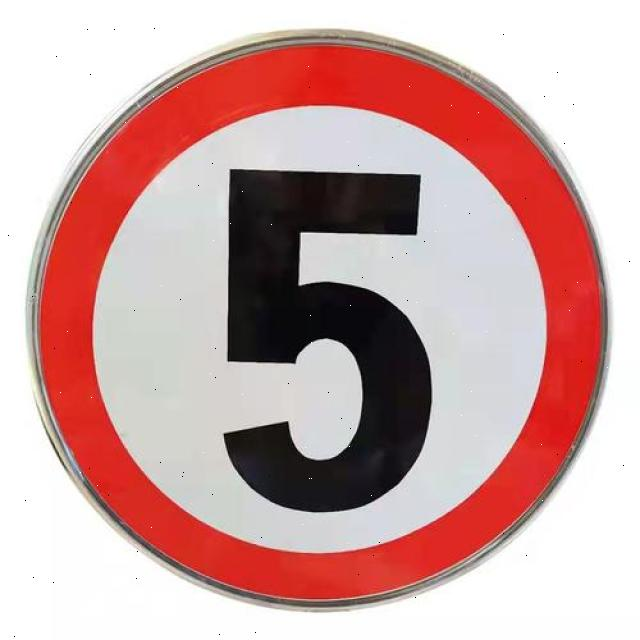speed limit 10: (23, 28, 612, 612)
